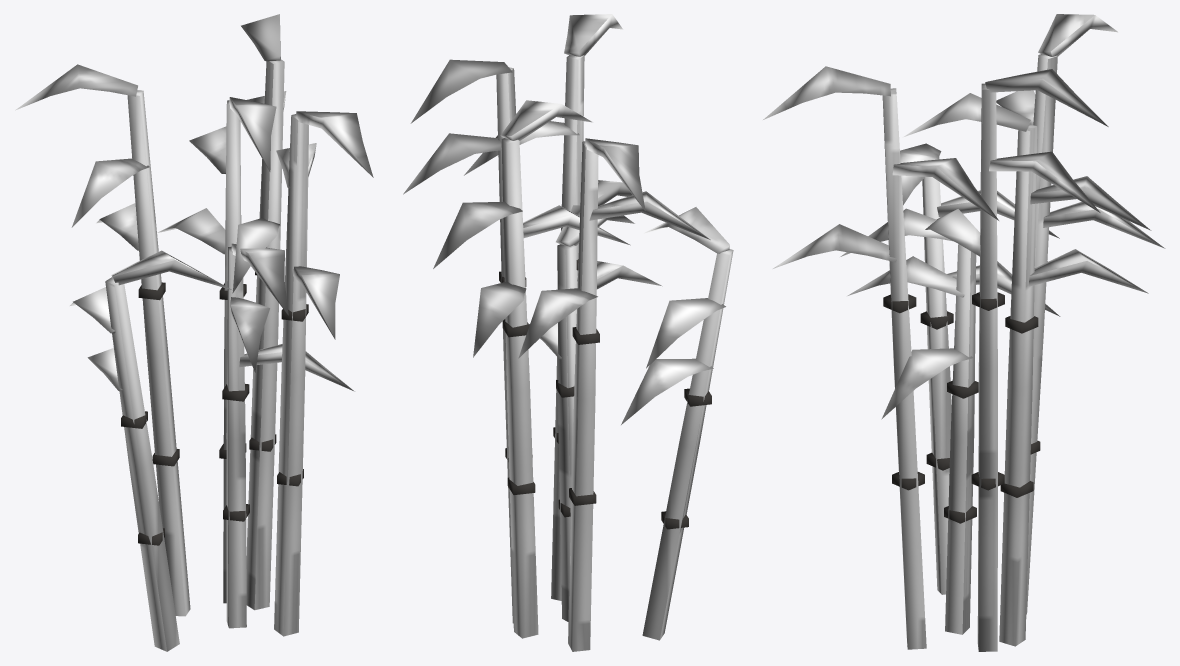
Rendered from tree_bamboo_1.obj.
The picture shows the model from 3 angles, left to right: view 1: azimuth 30°, elevation 25°; view 2: azimuth 150°, elevation 25°; view 3: azimuth 270°, elevation 25°; orthographic projection. The views are drawn at different scales.
Visible parts, largest first — view 1: source_component_030, source_component_000, source_component_012, source_component_018, source_component_024, source_component_006, source_component_035, source_component_017, source_component_016, source_component_033, source_component_011, source_component_029 (+10 smaller); view 2: source_component_006, source_component_012, source_component_018, source_component_024, source_component_030, source_component_000, source_component_010, source_component_022, source_component_005, source_component_015, source_component_021, source_component_009 (+11 smaller); view 3: source_component_006, source_component_000, source_component_030, source_component_024, source_component_018, source_component_012, source_component_035, source_component_027, source_component_005, source_component_004, source_component_034, source_component_033 (+11 smaller).
Boxes of the visible parts, x1,y1,x2,y2 form: source_component_030: [274, 114, 308, 636]; source_component_000: [246, 59, 284, 610]; source_component_012: [127, 90, 190, 616]; source_component_018: [105, 277, 179, 651]; source_component_024: [226, 246, 246, 628]; source_component_006: [223, 100, 241, 603]; source_component_035: [296, 111, 373, 177]; source_component_017: [15, 64, 137, 110]; source_component_016: [71, 158, 149, 227]; source_component_033: [293, 266, 339, 339]; source_component_011: [229, 97, 276, 171]; source_component_029: [231, 243, 288, 315]; source_component_006: [501, 138, 538, 638]; source_component_012: [568, 141, 598, 651]; source_component_018: [642, 249, 733, 640]; source_component_024: [557, 244, 577, 622]; source_component_030: [551, 55, 584, 600]; source_component_000: [496, 67, 516, 623]; source_component_010: [433, 201, 522, 268]; source_component_022: [646, 298, 725, 368]; source_component_005: [410, 59, 512, 123]; source_component_015: [518, 288, 597, 358]; source_component_021: [621, 358, 713, 424]; source_component_009: [473, 281, 526, 357]; source_component_006: [999, 124, 1037, 646]; source_component_000: [977, 83, 997, 651]; source_component_030: [882, 88, 926, 649]; source_component_024: [945, 244, 976, 634]; source_component_018: [922, 176, 951, 594]; source_component_012: [1026, 54, 1057, 614]; source_component_035: [763, 66, 890, 119]; source_component_027: [881, 348, 973, 419]; source_component_005: [985, 69, 1108, 126]; source_component_004: [989, 151, 1100, 212]; source_component_034: [892, 158, 998, 220]; source_component_033: [773, 224, 897, 268].
Size of the model in its own units: 0.5035 by 1.07 by 0.6603.
